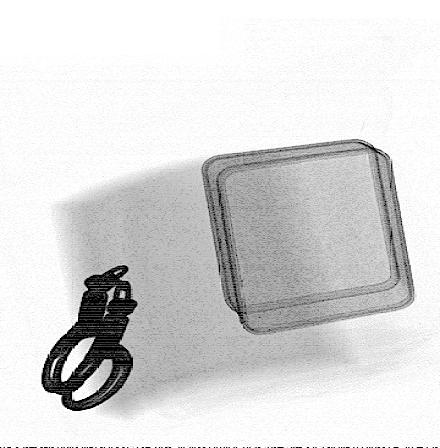HandCuffs: (39, 261, 143, 415)
